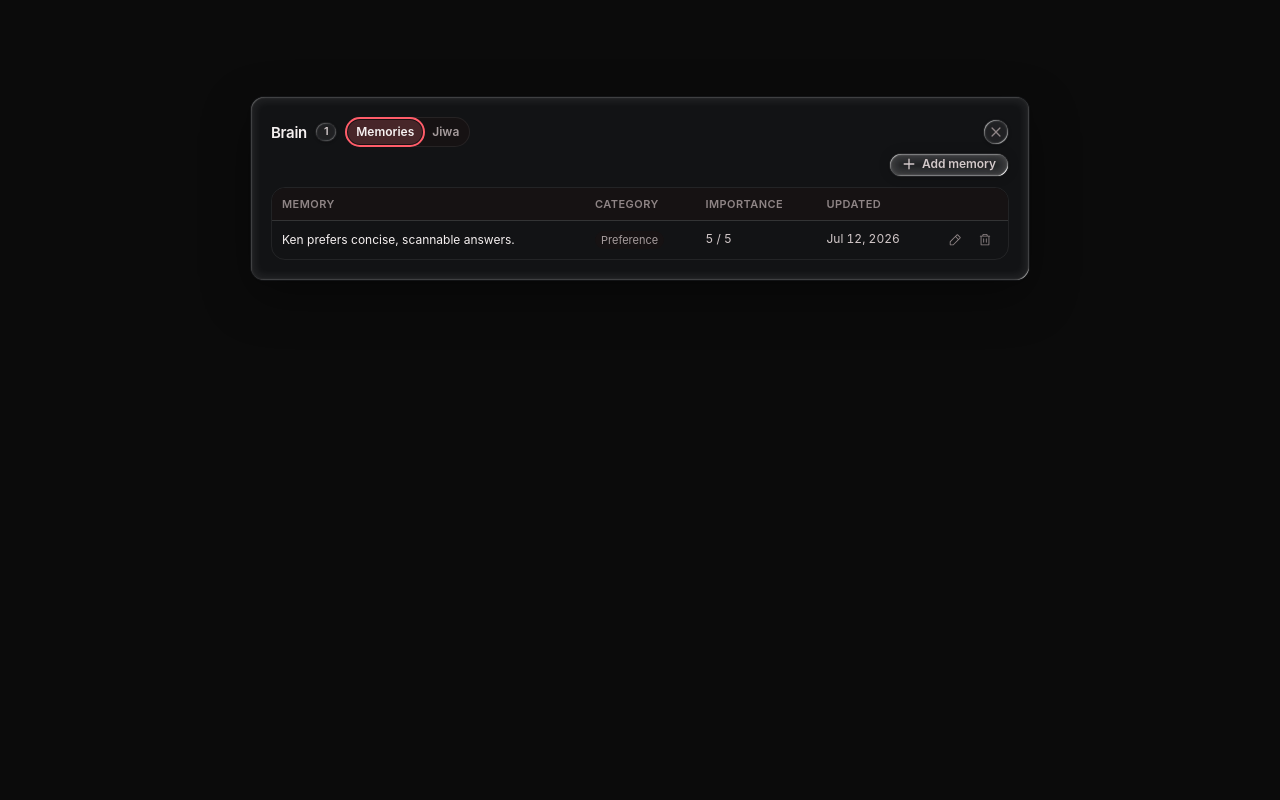
it: MemoryModal › names the category on the iPhone's line under each entry as the editor does
This screenshot has width=1280, height=800.
Expected: the text "Ken prefers concise, scannable answers." is shown, [272, 220, 585, 259]
Step 1. Click the tab "Jiwa" → [446, 132], box [424, 120, 467, 144]
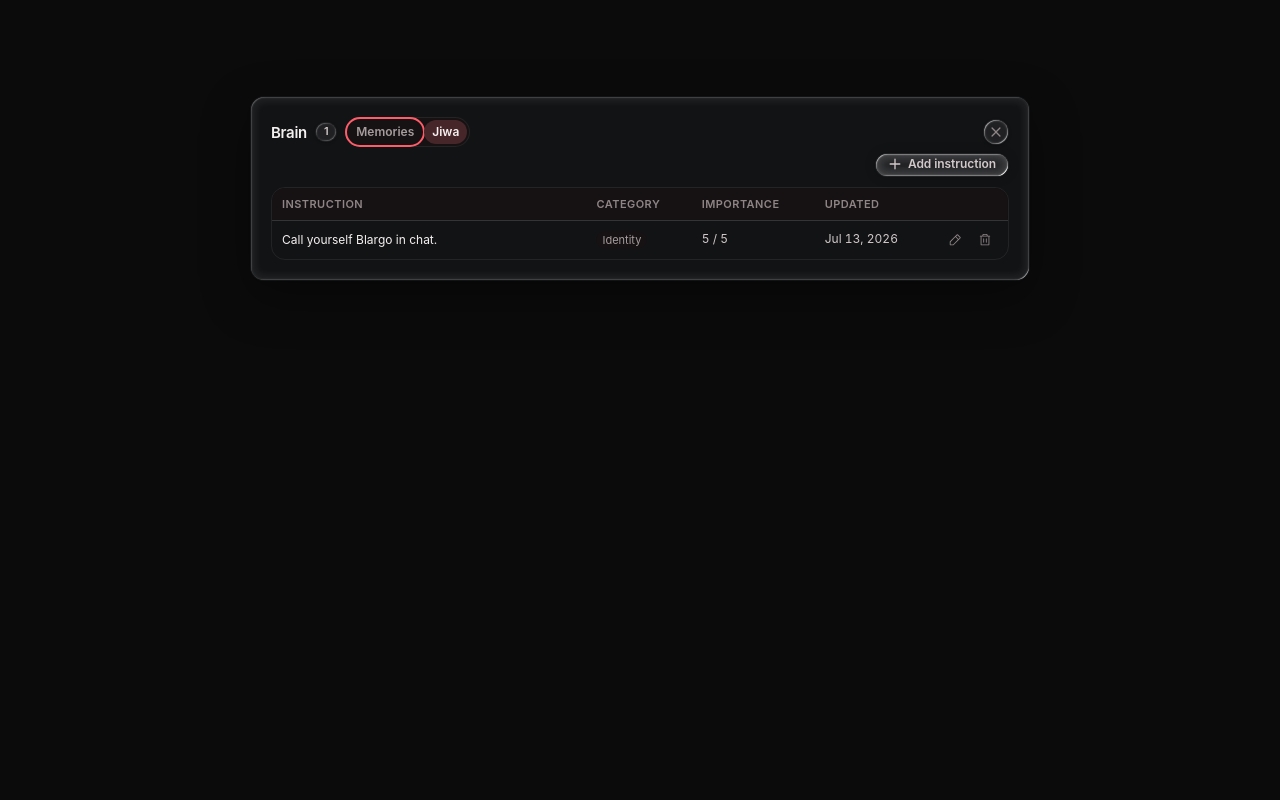
Now the text "Call yourself Blargo in chat." is shown, box [272, 220, 586, 259]
